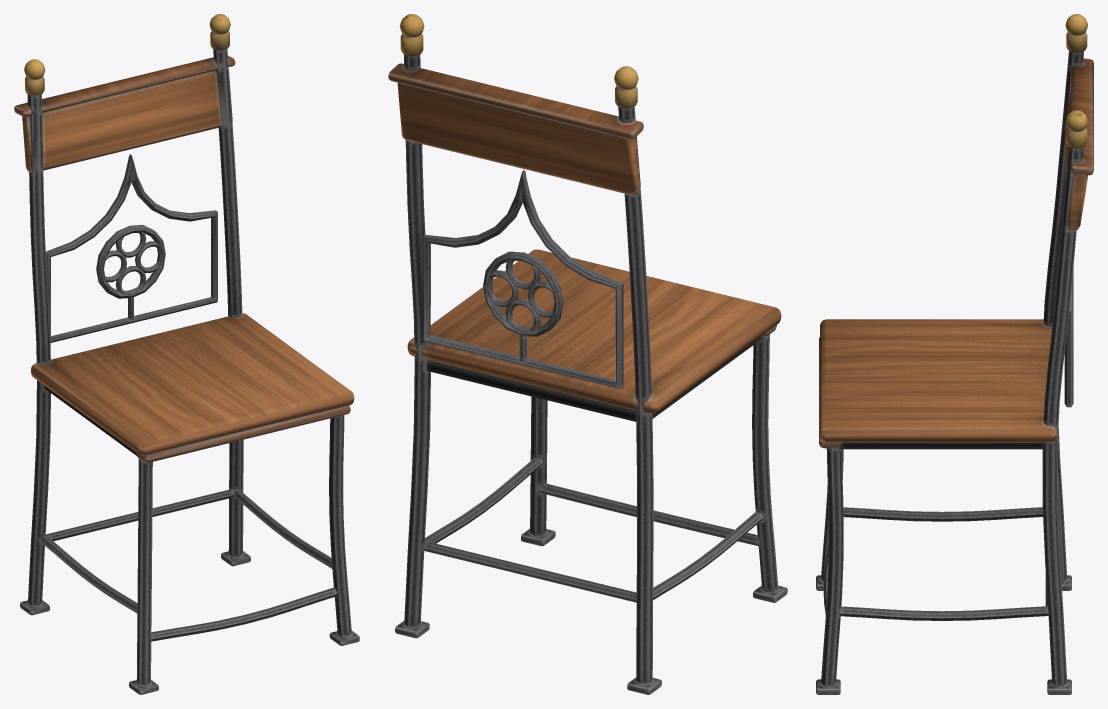
The model's file is StudentChair.fbx.
3 renders of one model, left to right at view 1: azimuth 30°, elevation 25°; view 2: azimuth 150°, elevation 25°; view 3: azimuth 270°, elevation 25°, orthographic. The views are drawn at different scales.
Parts seen in each view (by area): view 1: StudentChair; view 2: StudentChair; view 3: StudentChair.
Part boxes in pixels (x1,y1,x2,y2): StudentChair: [14, 14, 359, 694]; StudentChair: [388, 14, 787, 694]; StudentChair: [816, 14, 1093, 694].
Bounding box in the file's own units: 143 × 335 × 147.
